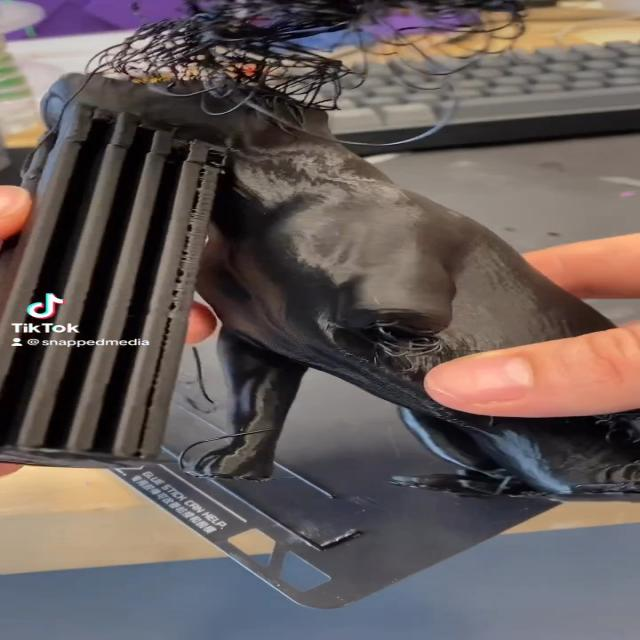spaghetti: (84, 0, 534, 157)
